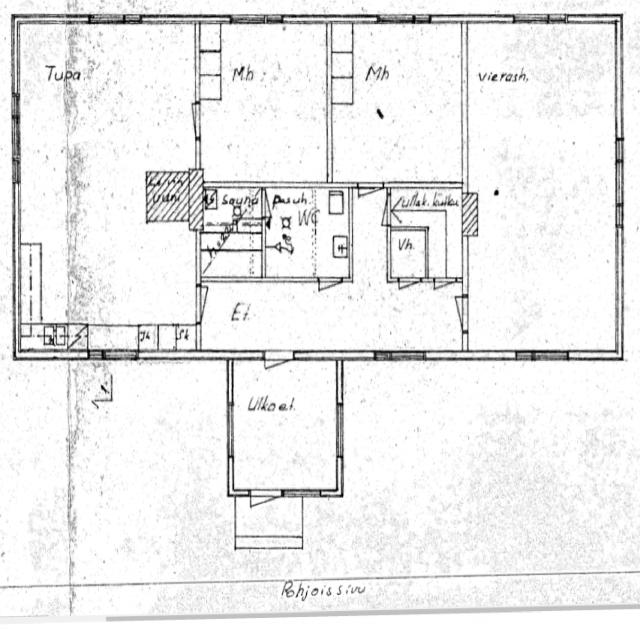door: (251, 489, 281, 536), (265, 350, 293, 395), (168, 102, 200, 138), (196, 286, 228, 322), (435, 298, 468, 332), (358, 182, 384, 221), (364, 194, 392, 224), (398, 276, 422, 311), (318, 276, 342, 310), (434, 276, 457, 310), (262, 189, 287, 217)
